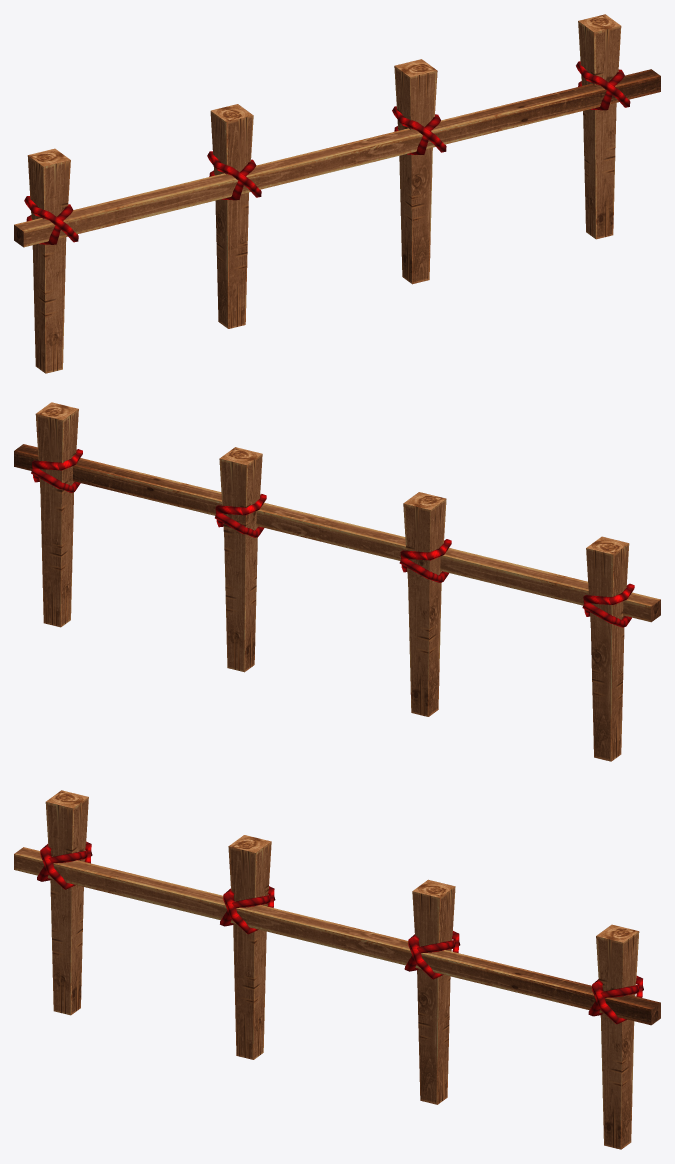
The model's file is fence2.fbx.
The picture shows the model from 3 angles, top to bottom: view 1: azimuth 30°, elevation 25°; view 2: azimuth 150°, elevation 25°; view 3: azimuth 330°, elevation 25°; orthographic projection.
Parts seen in each view (by area): view 1: fence_2; view 2: fence_2; view 3: fence_2.
Boxes of the visible parts, x1,y1,x2,y2 form: fence_2: (14,14,660,373); fence_2: (14,402,660,761); fence_2: (14,790,660,1149).
Size of the model in its own units: 19.26 by 6.07 by 1.58.
1 material, 1 textured.
